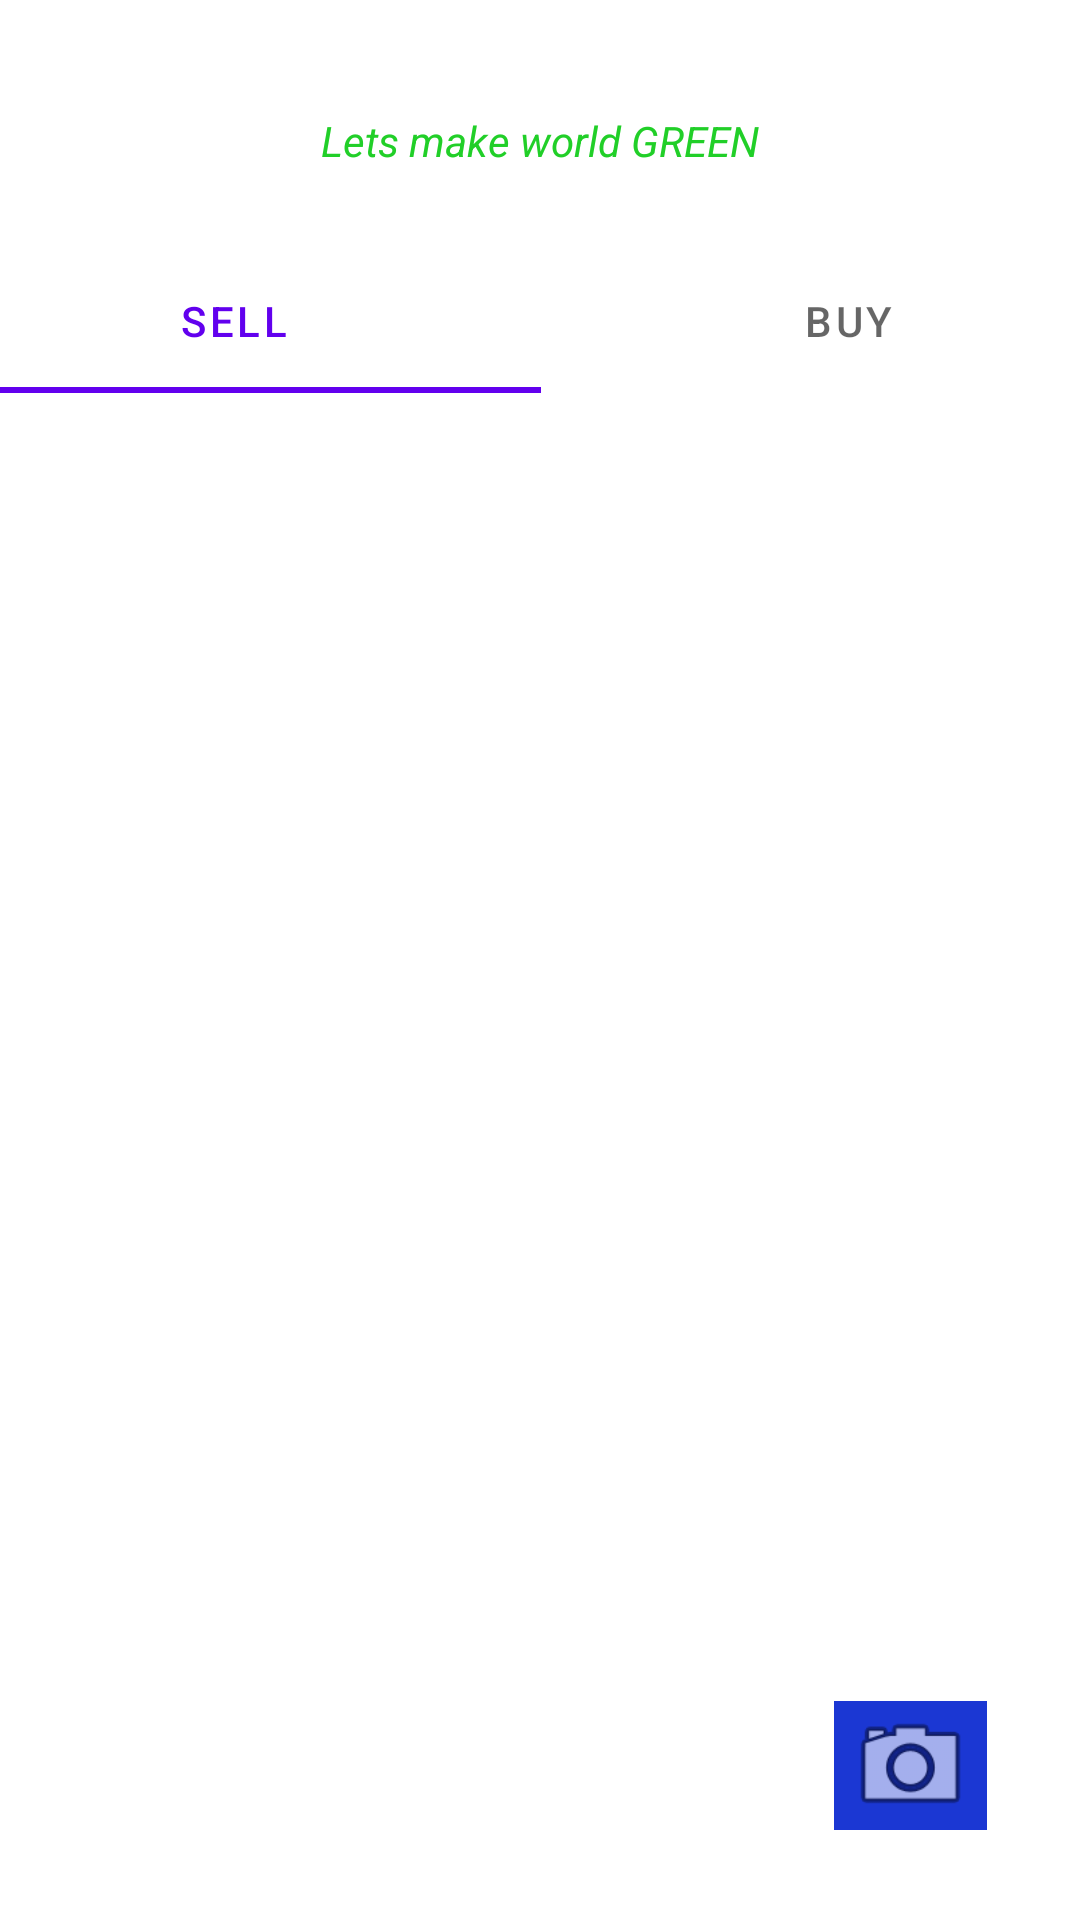

Icons on this 1080px x 1920px Android screen, each with the point to tap as [x,y]:
camera: [910,1765]
